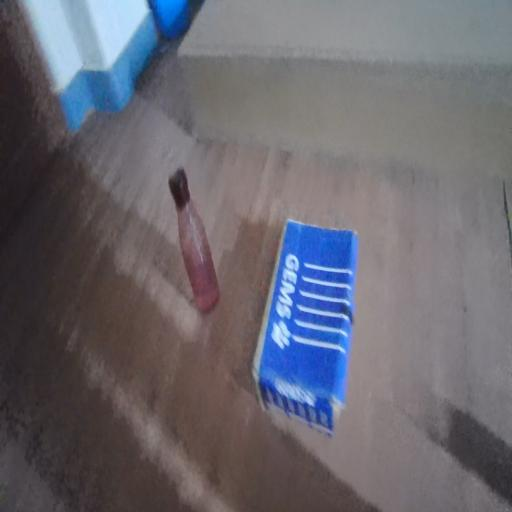Bottle: (169, 163, 225, 326)
